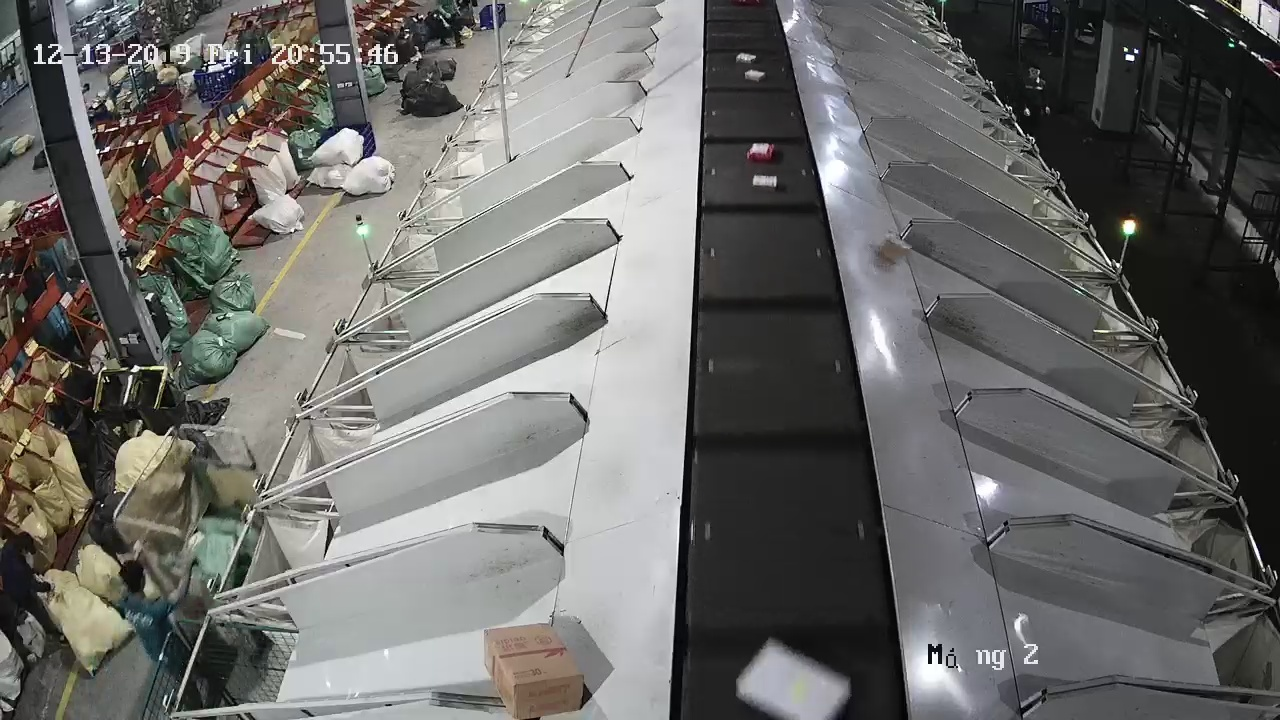parcel: (876, 234, 914, 266)
